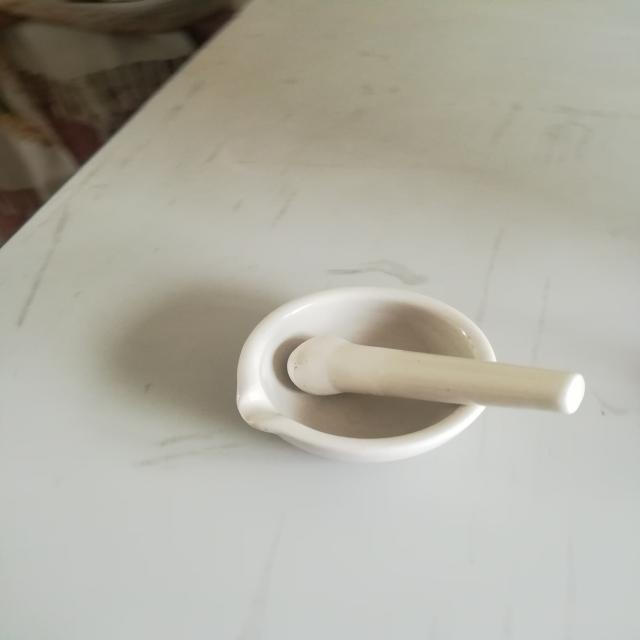Porcelain_Mortar Pestle: (179, 230, 624, 502)
